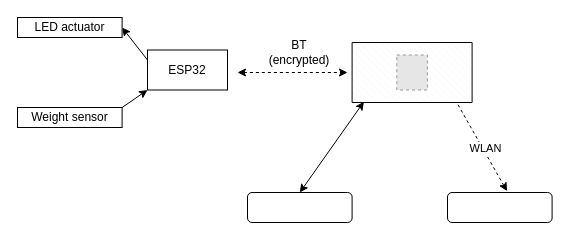
The diagram is 570 pixels wide and 240 high, and some of its shapes have lost their labels. Grey dashed boxes stand in for pictures. Each missing label, with the box of its shape:
NTP server: (246, 192, 352, 222)
Telegram Bot API: (446, 192, 552, 222)
